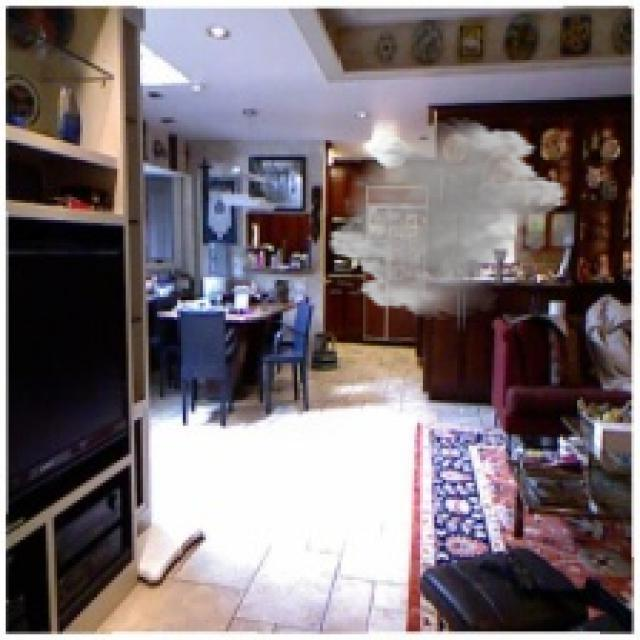Smoke: (326, 117, 568, 320)
